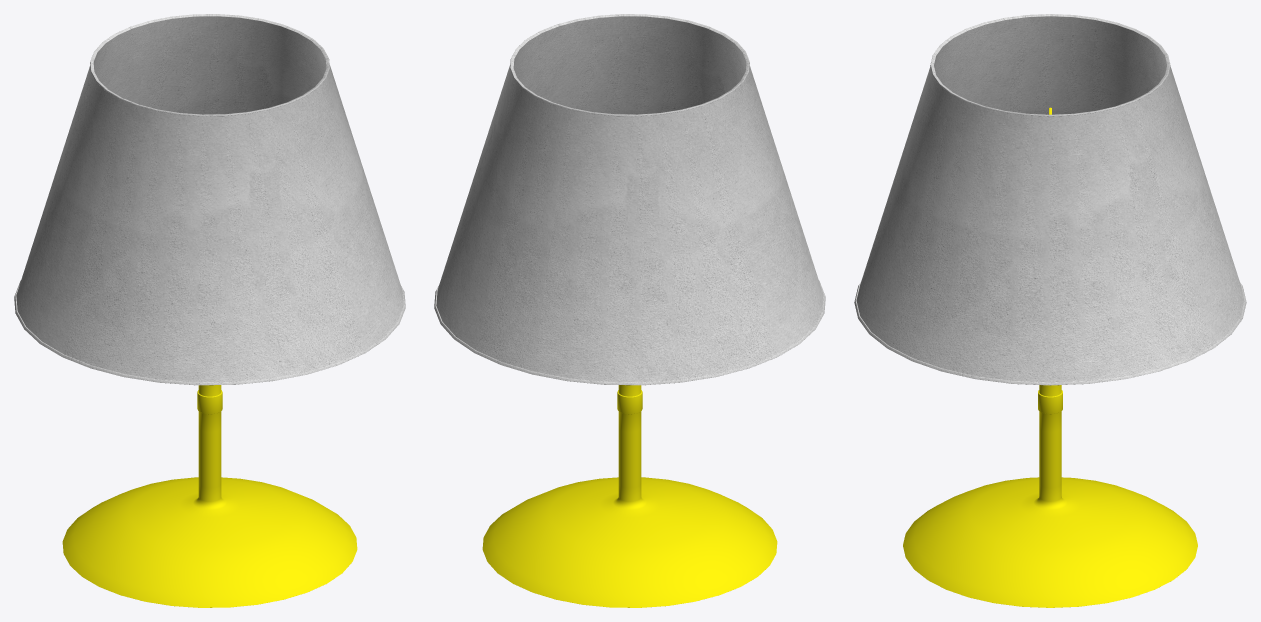
Rendered from lamp.glb.
3 views of the same model, side by side, from view 1: azimuth 30°, elevation 25°; view 2: azimuth 150°, elevation 25°; view 3: azimuth 270°, elevation 25° (orthographic).
Parts seen in each view (by area): view 1: Circle; view 2: Circle; view 3: Circle.
Boxes of the visible parts, x1,y1,x2,y2 form: Circle: (14, 14, 405, 607); Circle: (434, 14, 825, 607); Circle: (854, 14, 1246, 607).
Size of the model in its own units: 2.01 by 2.72 by 2.01.
3 materials, 1 textured.
